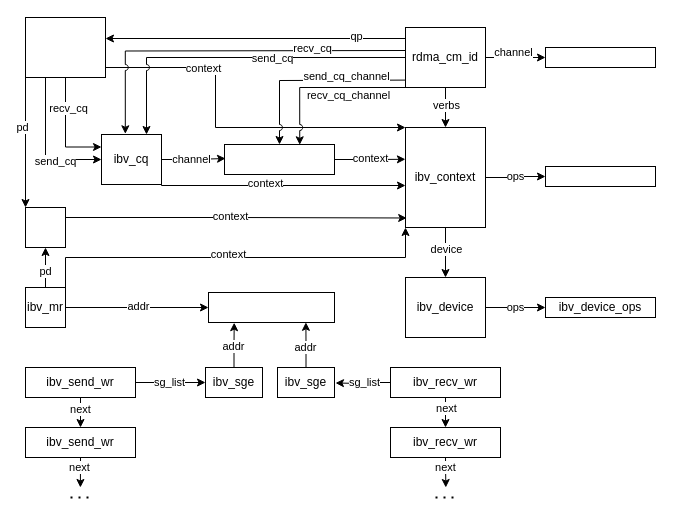
Some shapes in this 674 by 517 pixel diagram are drawn without their labels. Here are the shapes that lost their labels. From the top down, the box of each, then its label:
(24, 16, 106, 78): ibv_qp
(544, 46, 656, 68): rdma_event_channel
(224, 144, 334, 174): ibv_comp_channel
(544, 166, 656, 186): ibv_context_ops
(24, 206, 66, 248): ibv_pd
(208, 292, 334, 322): 虚拟内存
